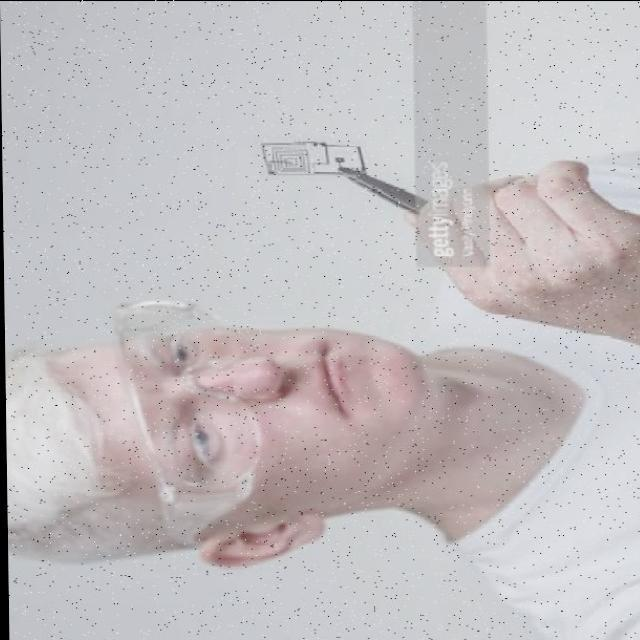goggles_on: (109, 297, 263, 572)
